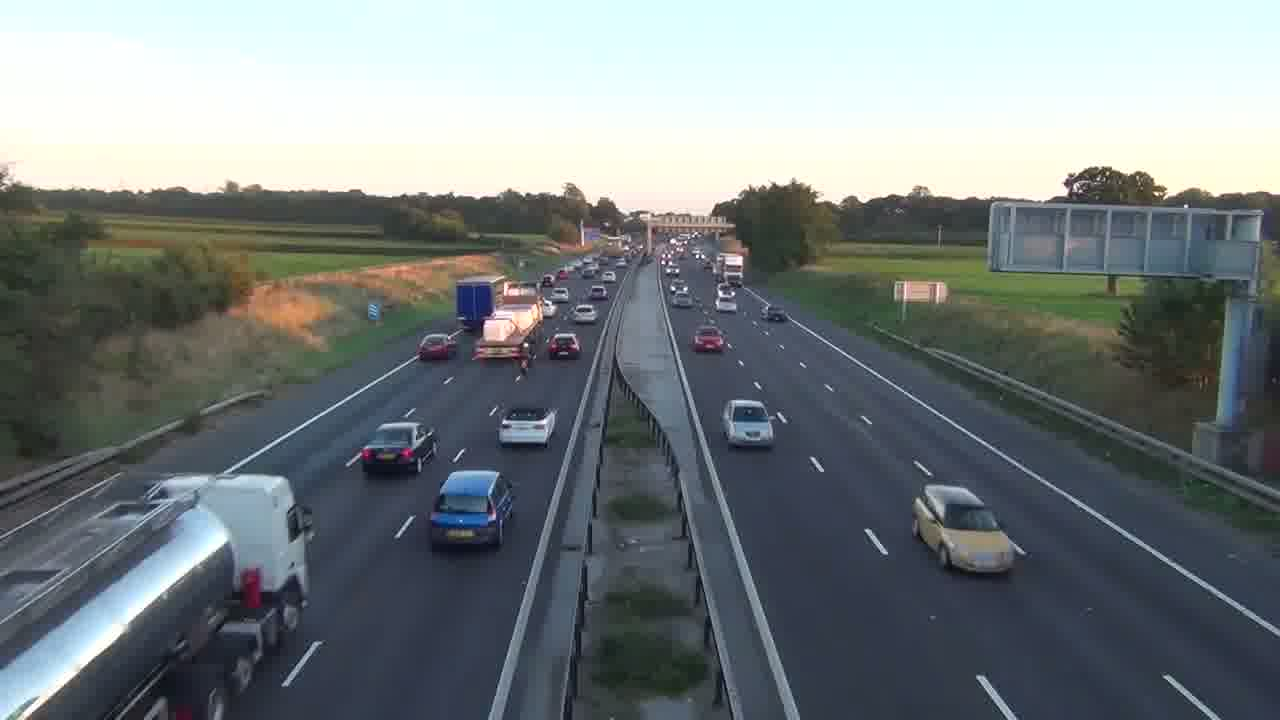car: (911, 482, 1022, 575), (428, 468, 516, 549), (358, 421, 438, 477), (720, 398, 776, 450), (497, 404, 559, 449), (417, 332, 456, 361), (691, 325, 725, 354), (547, 332, 581, 359), (716, 285, 738, 311), (572, 303, 597, 324)
truck: (2, 471, 316, 715)
